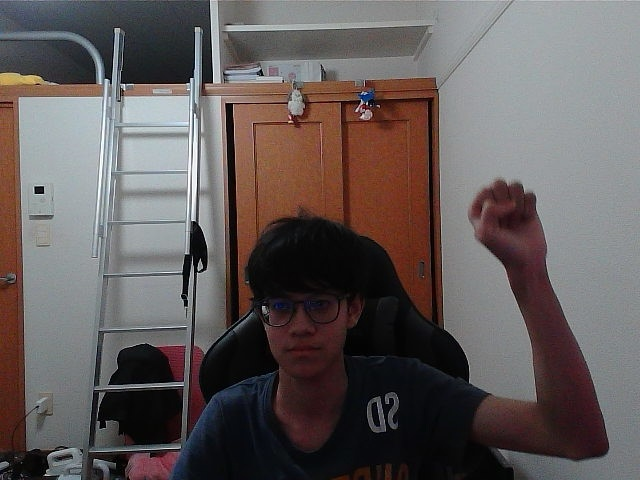closed_palm: (482, 183, 531, 258)
